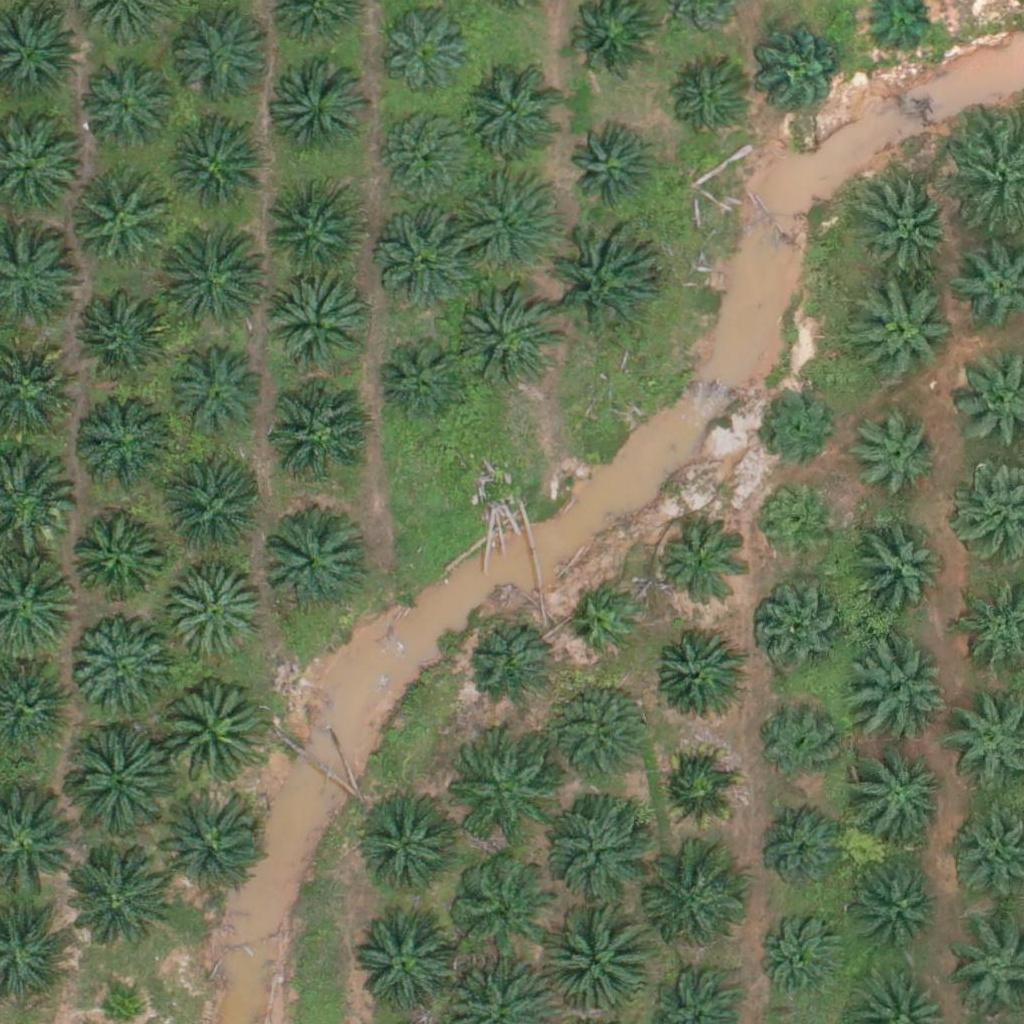Kelapa_Sawit: (542, 901, 655, 1014), (543, 786, 656, 899), (59, 726, 172, 839), (56, 843, 169, 956), (544, 226, 657, 339), (639, 845, 751, 958), (155, 678, 267, 791), (152, 786, 264, 899), (447, 163, 559, 276), (159, 221, 271, 334), (172, 5, 272, 106), (270, 63, 370, 164), (850, 743, 950, 844), (444, 743, 544, 844), (450, 855, 550, 956), (356, 917, 456, 1018), (362, 791, 462, 892), (259, 515, 359, 616), (166, 564, 266, 665), (64, 509, 164, 610), (71, 617, 171, 718), (843, 404, 943, 505), (453, 287, 553, 388), (378, 204, 478, 305), (262, 273, 362, 374), (262, 185, 362, 286), (166, 117, 266, 218), (378, 2, 478, 102), (464, 66, 564, 166), (849, 524, 949, 624), (852, 640, 952, 740), (551, 678, 651, 778), (164, 466, 264, 566), (859, 178, 959, 278), (850, 284, 950, 384), (268, 383, 368, 483), (164, 342, 264, 442), (76, 387, 176, 487), (68, 167, 168, 267), (73, 283, 173, 383), (383, 109, 471, 198), (759, 32, 847, 120), (852, 860, 940, 948), (753, 481, 841, 569), (757, 699, 845, 787), (758, 811, 846, 899), (758, 916, 846, 1004), (466, 619, 554, 707), (664, 59, 751, 147), (82, 62, 169, 150), (755, 582, 842, 670), (657, 523, 744, 611), (653, 628, 740, 716), (653, 746, 740, 834), (755, 382, 842, 470), (570, 128, 657, 216), (379, 335, 466, 423), (569, 585, 644, 661)
